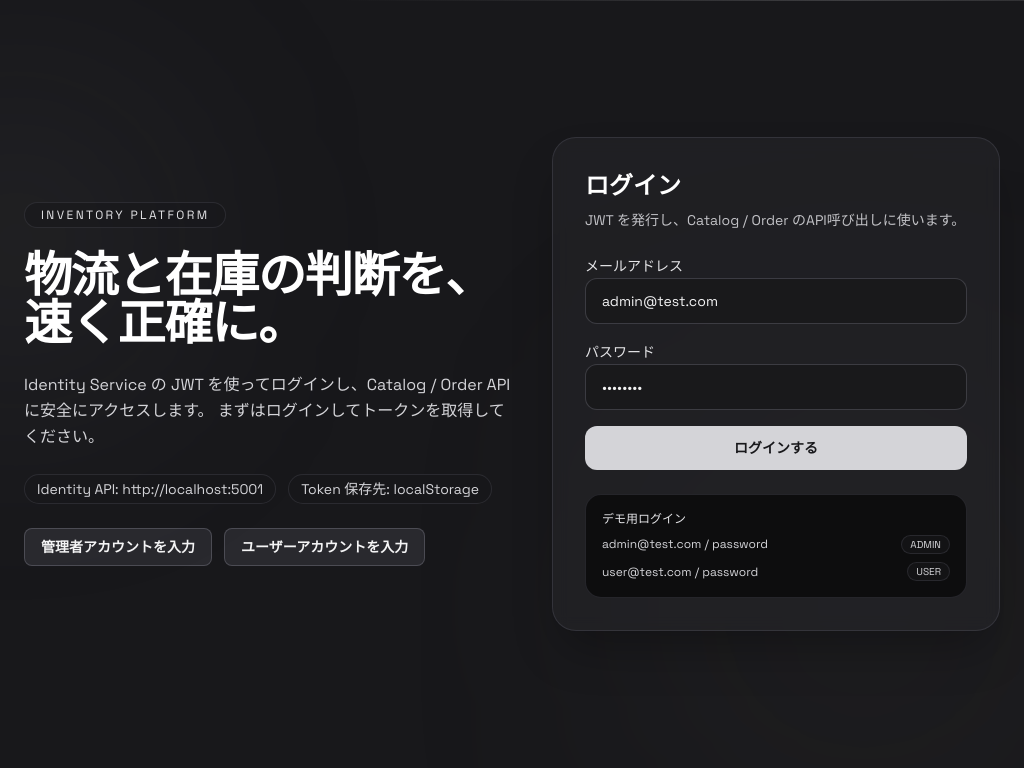
App login › shows validation error when backend returns 401
The width and height of the screenshot is (1024, 768).
Click the button "ログインする": (776, 448) [585, 426, 967, 470]
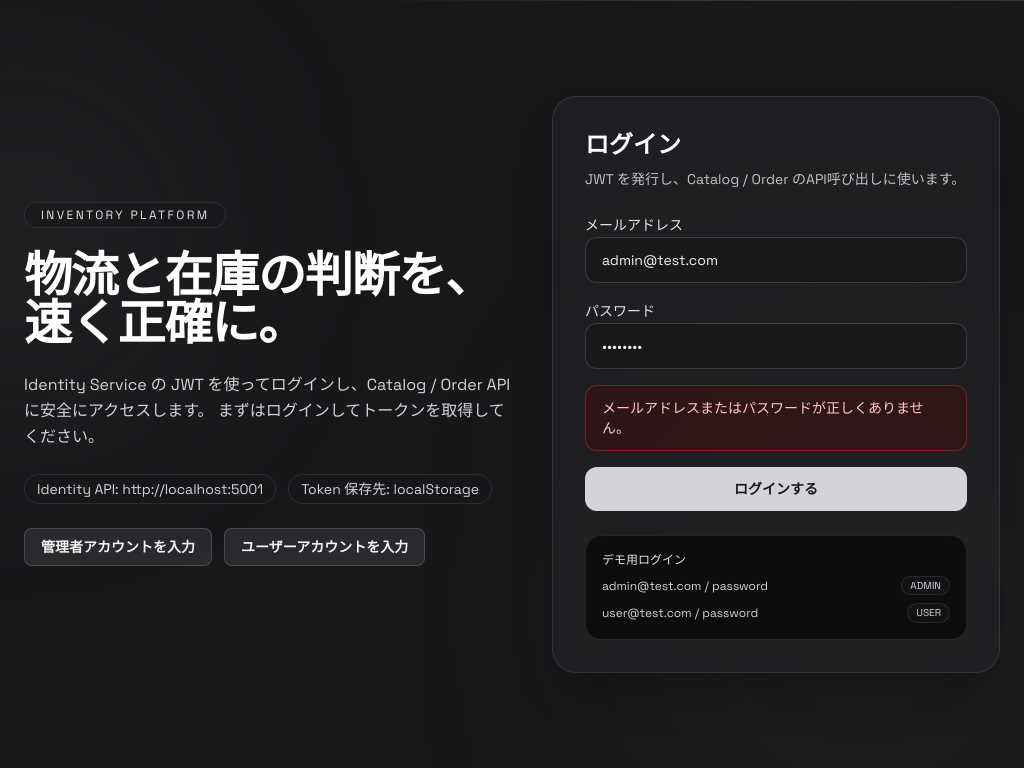
expect the text "メールアドレスまたはパスワードが正しくありません。" is shown: met, box [585, 385, 967, 451]
